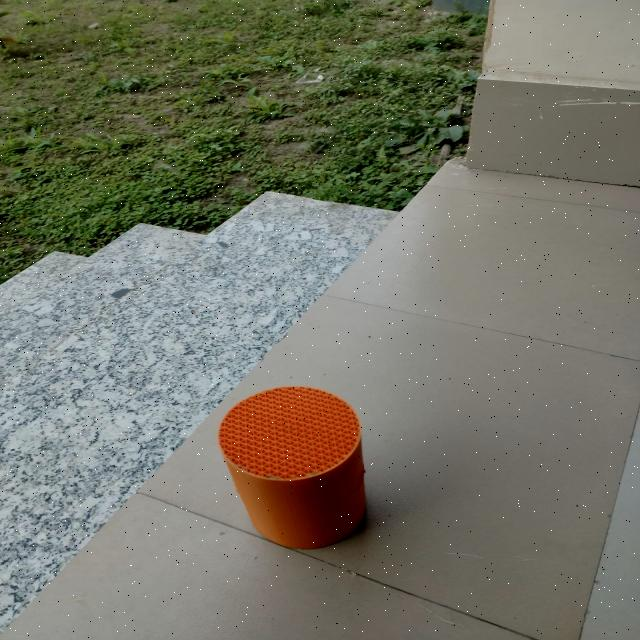Cylinder: (217, 384, 367, 550)
